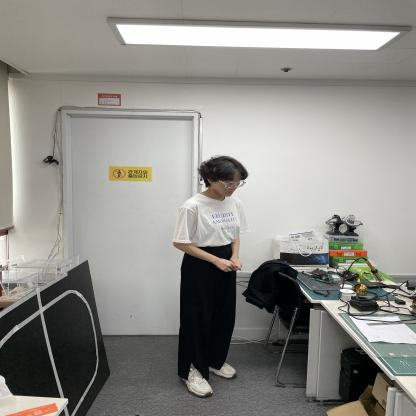normal: (176, 145, 252, 399)
